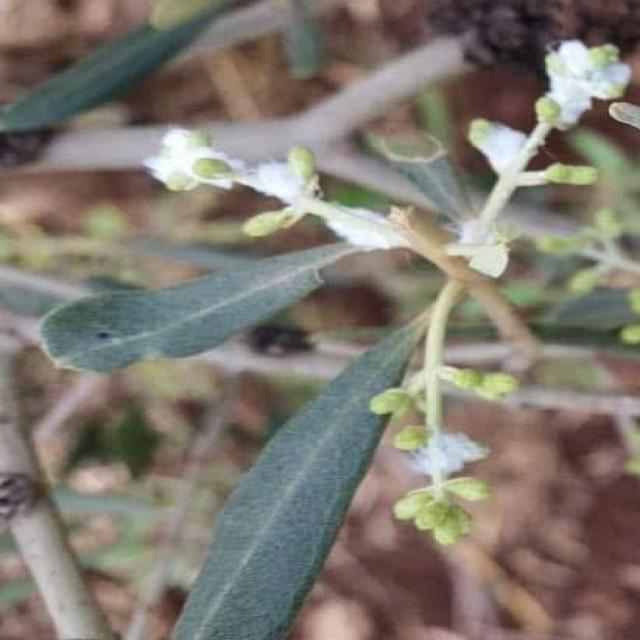Psyllid: (152, 41, 628, 542)
